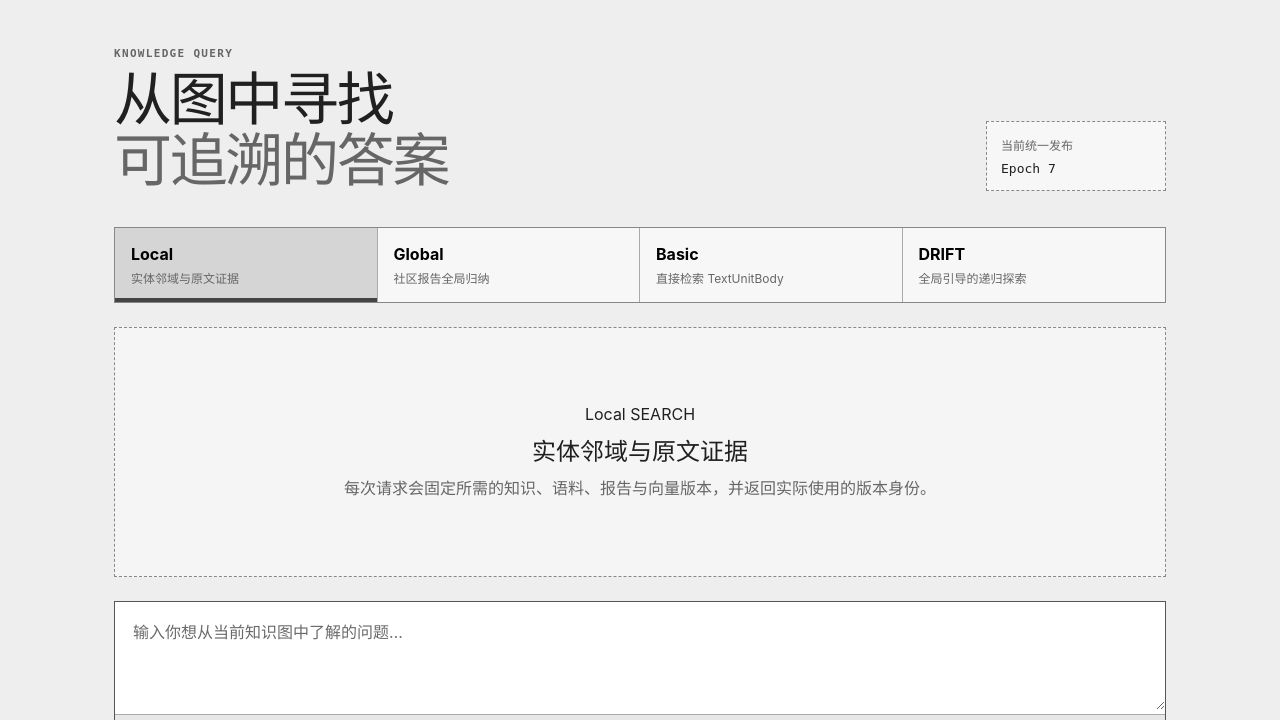
Test: SearchPage wireframe › sends Global-only controls only with a Global request
Click the button "Global 社区报告全局归纳": (419, 254) top-left (378, 228), bottom-right (640, 302)
(page scrolled)
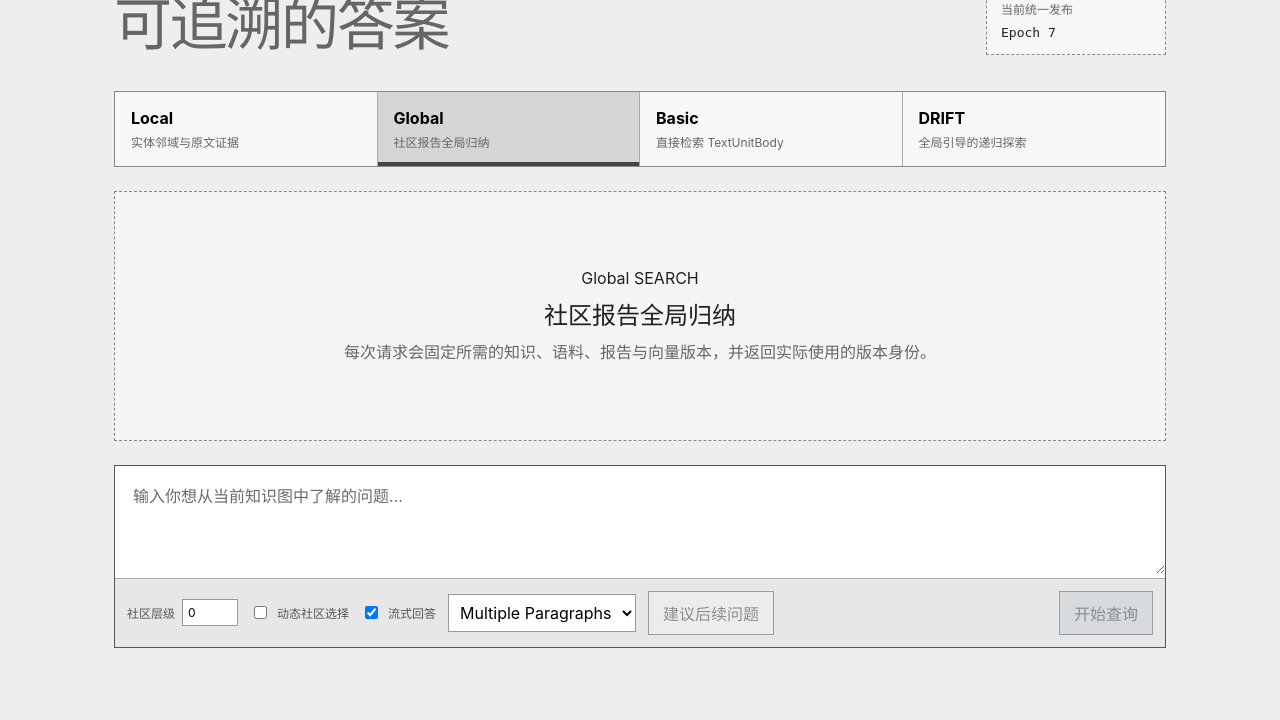
Replace the text in the number field labelled "社区层级" with "2": (210, 613) top-left (182, 599), bottom-right (238, 626)
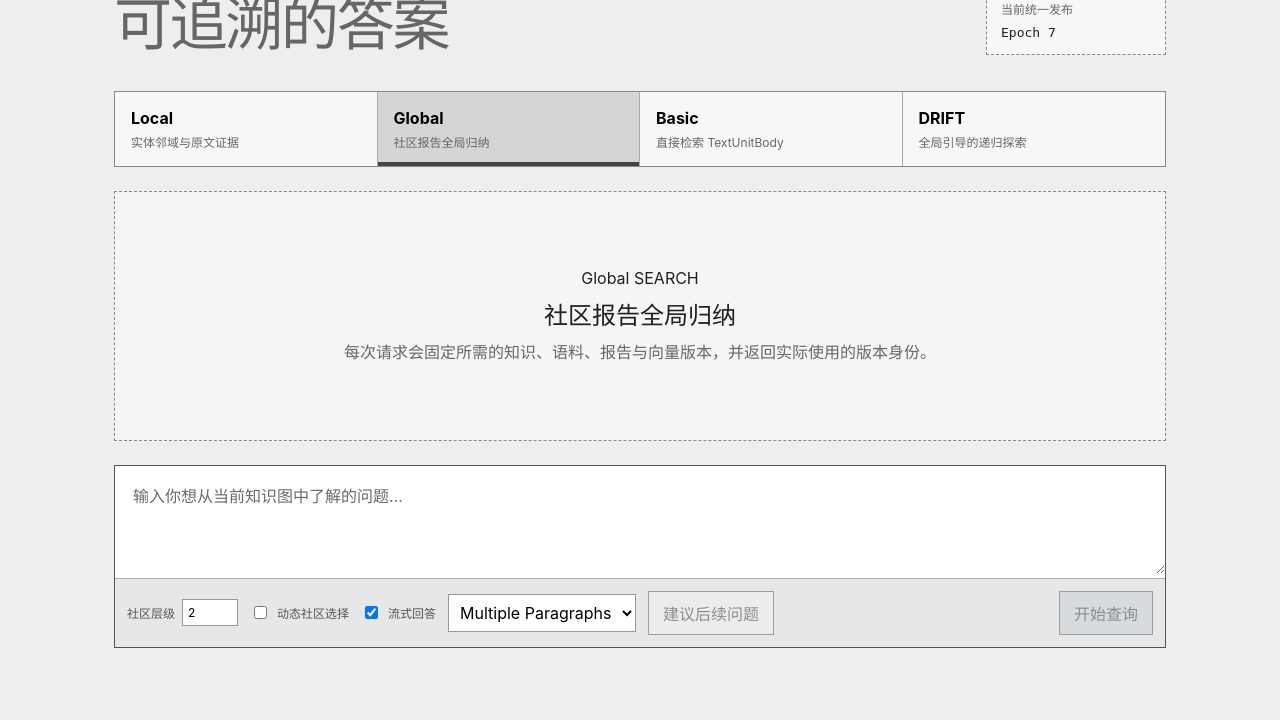
Click the checkbox labelled "动态社区选择": (260, 613) top-left (254, 606), bottom-right (267, 619)
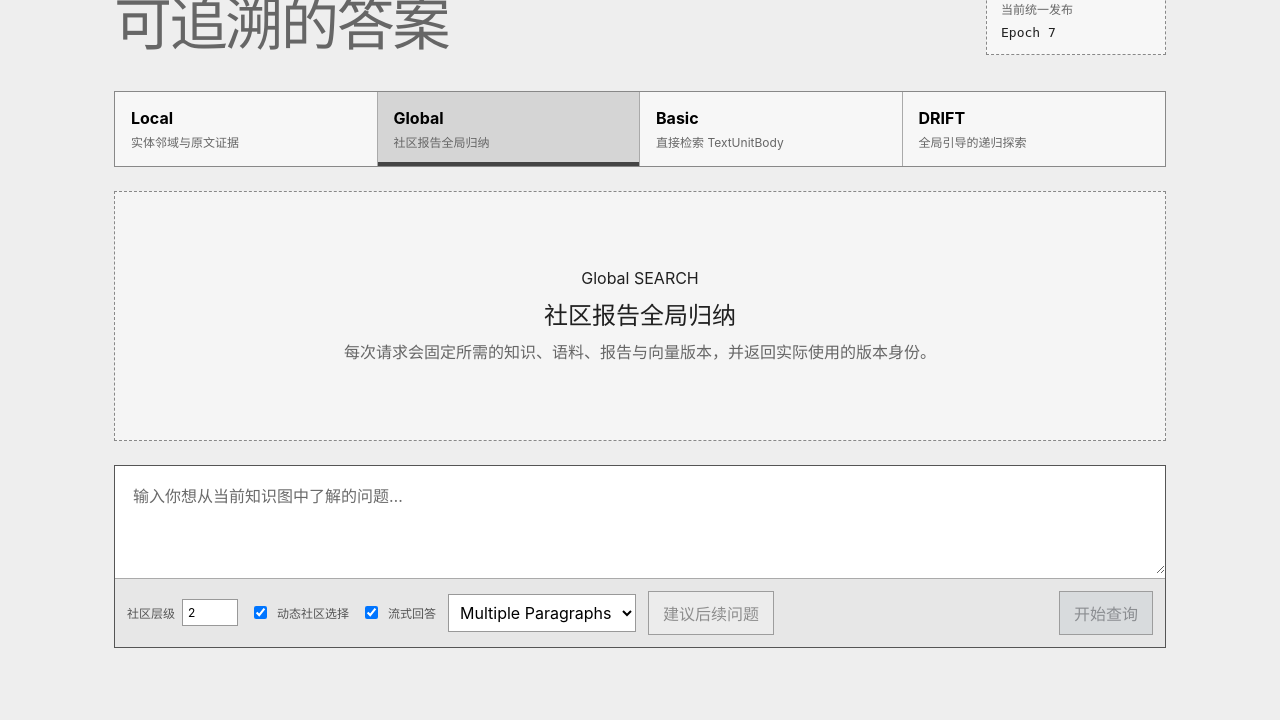
Click the checkbox labelled "流式回答": (372, 613) top-left (365, 606), bottom-right (378, 619)
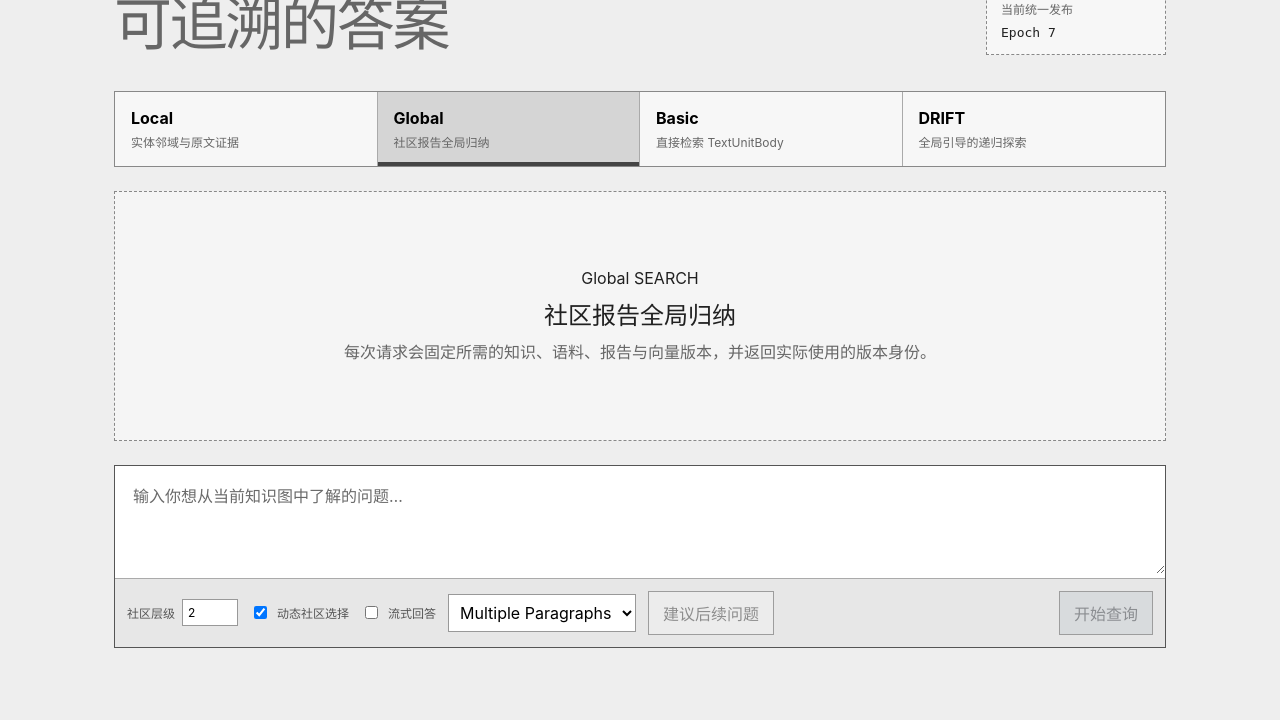
In the text box with placeholder "输入你想从当前知识图中了解的问题…": (640, 520) top-left (115, 466), bottom-right (1165, 574), type "总结知识图"
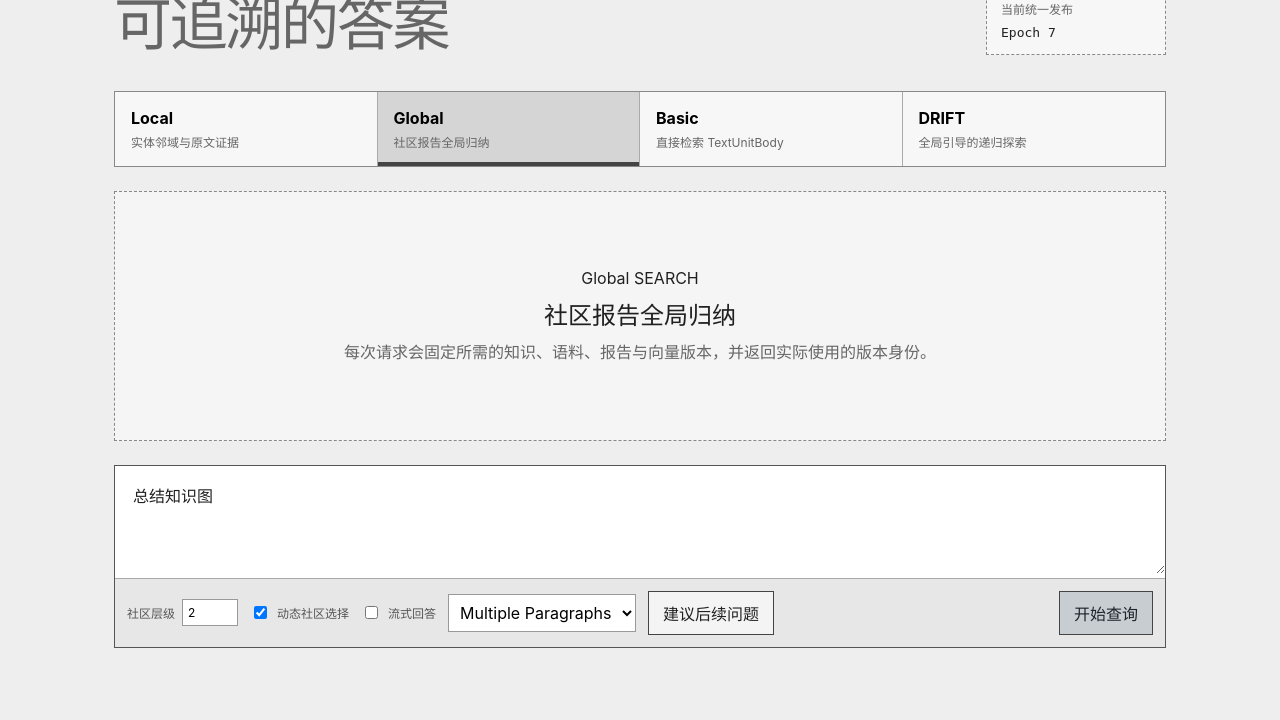
Submit the form, box top-left (114, 465), bottom-right (1166, 648)
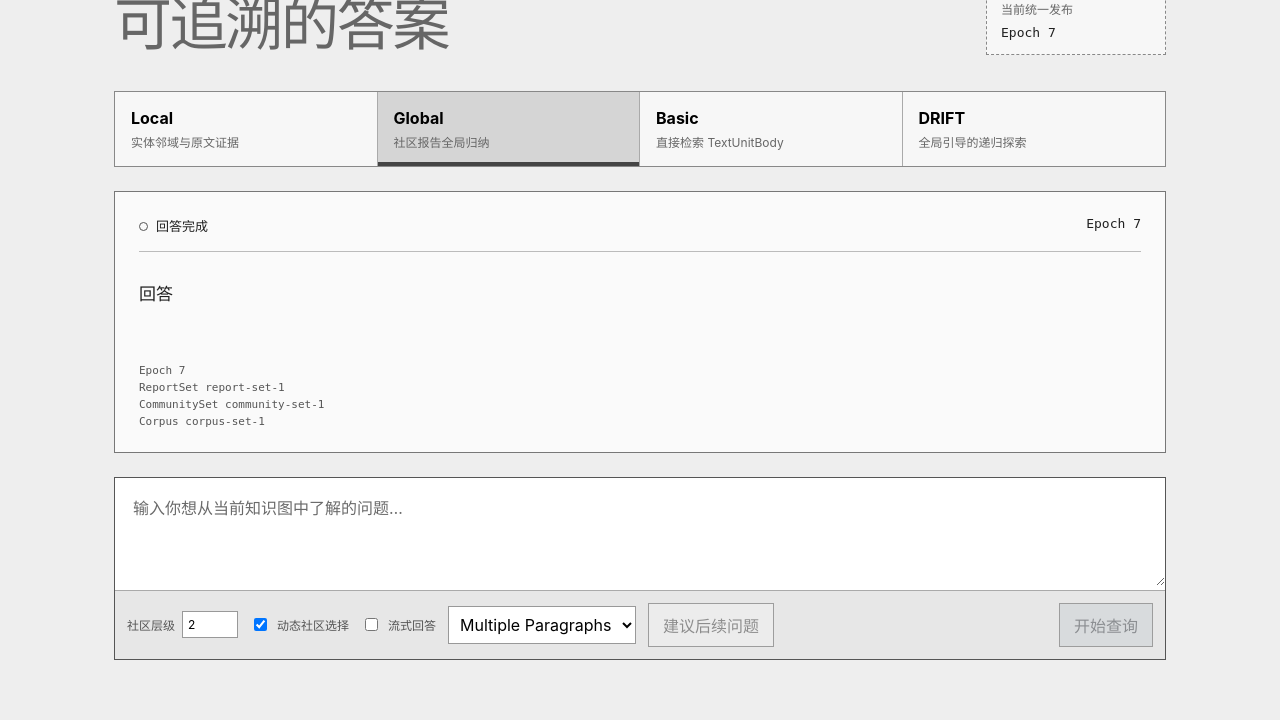
Expected: the text "Epoch 7" is shown, top-left (1001, 25), bottom-right (1056, 40)
Result: the text "ReportSet report-set-1" is shown at top-left (139, 381), bottom-right (285, 394)
